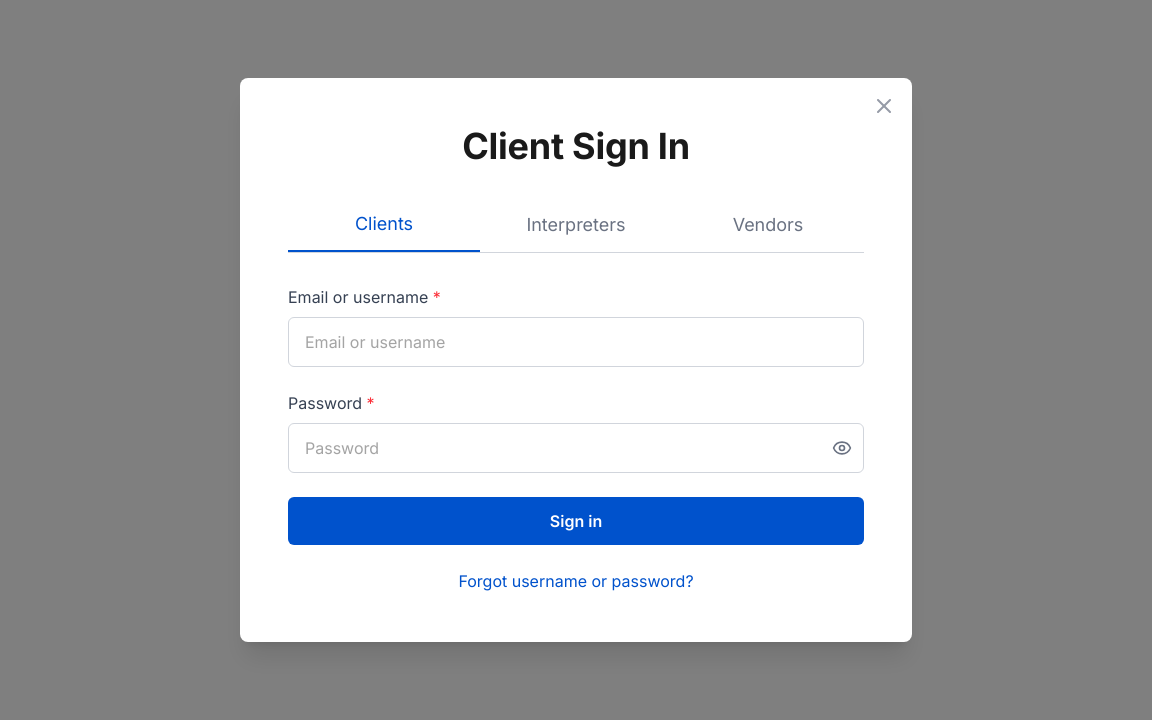
Scenario: SignInModal › should switch to vendors tab
Click the tab "Vendors": (768, 225) [672,198,864,252]
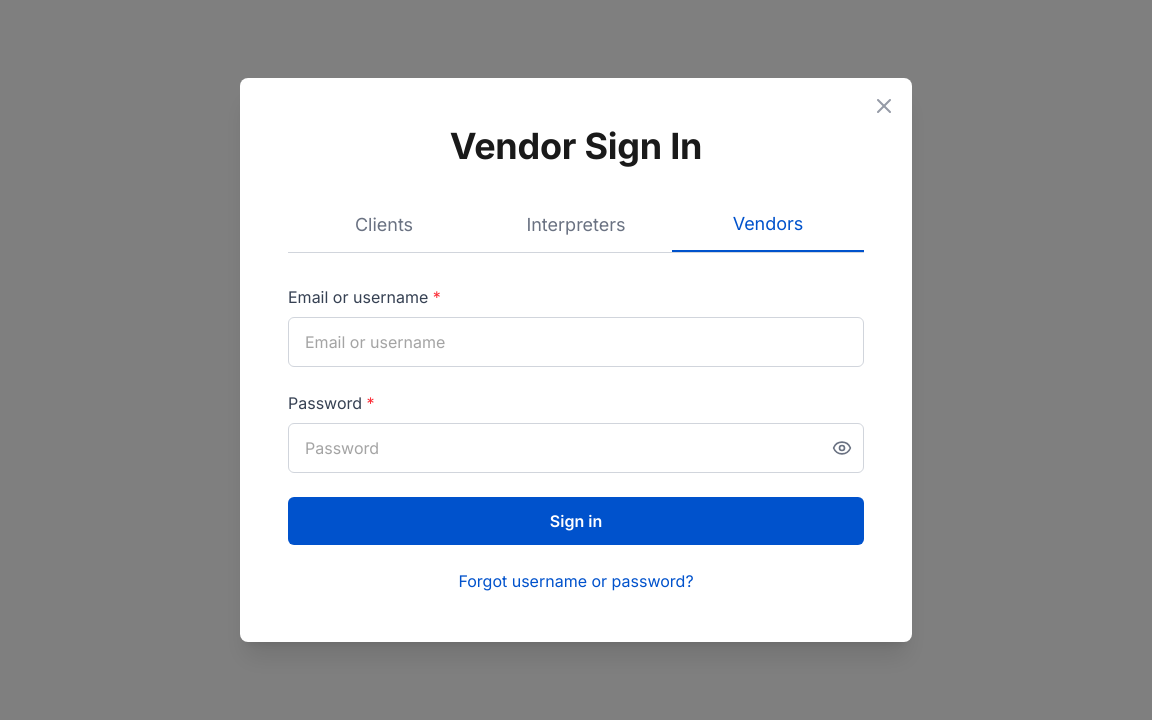
Now the heading "Vendor Sign In" is shown, box [450,124,702,168]
